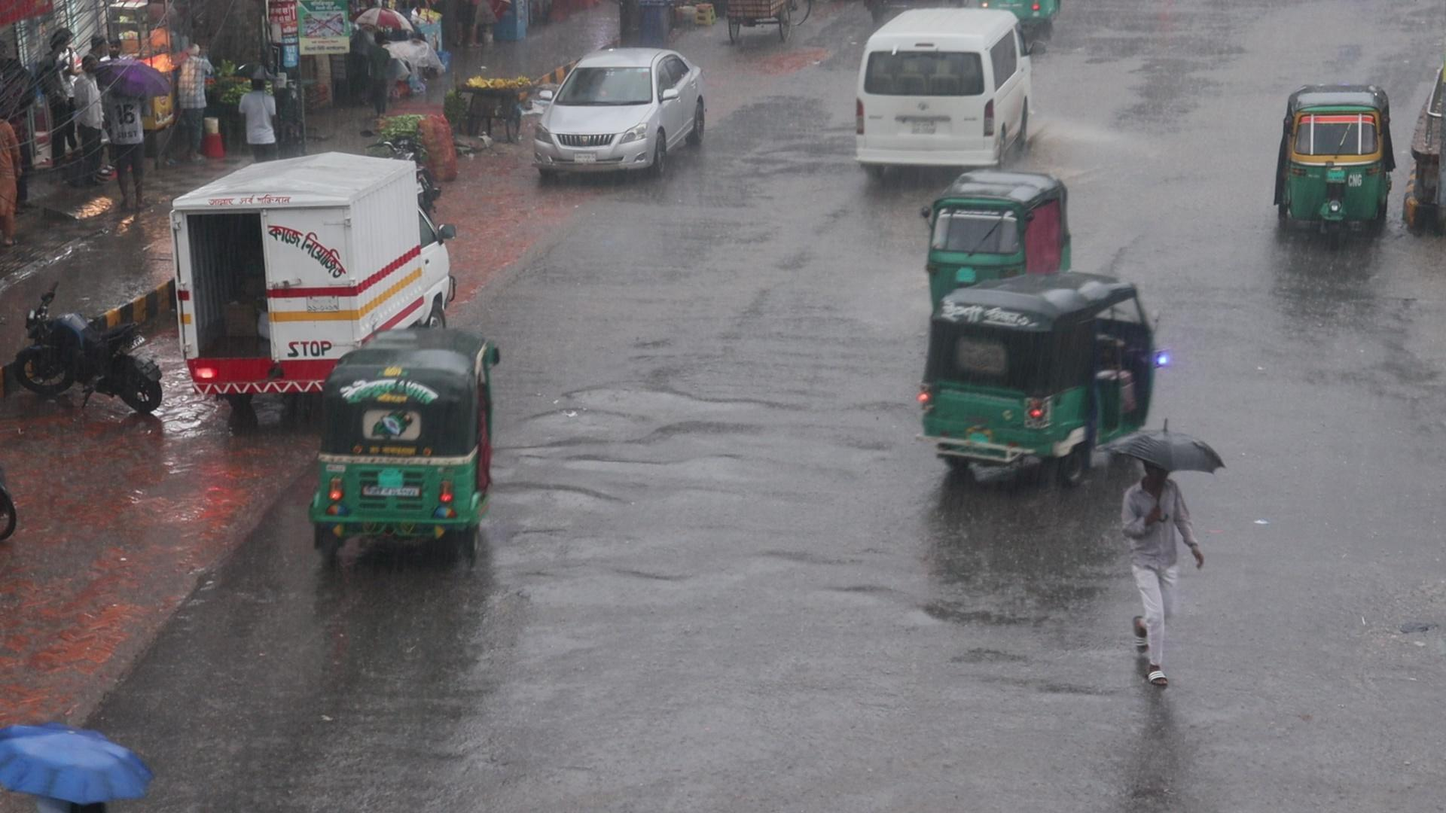Car: (853, 6, 1045, 164), (531, 46, 708, 175)
